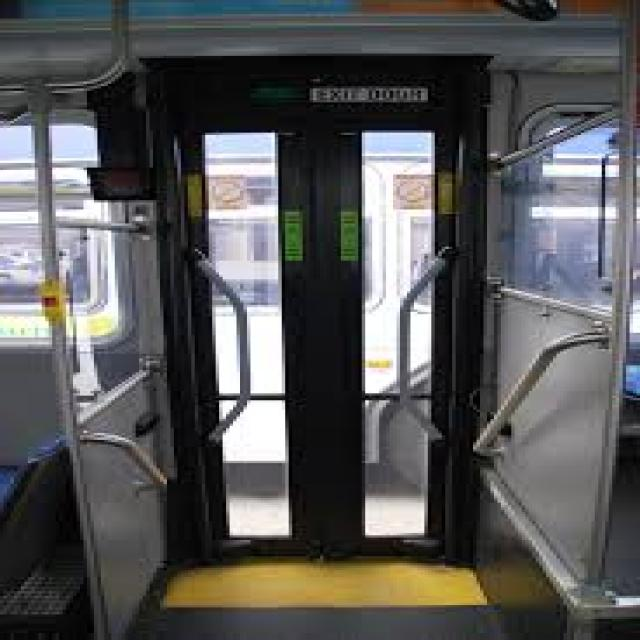bus-door: (141, 65, 502, 558)
